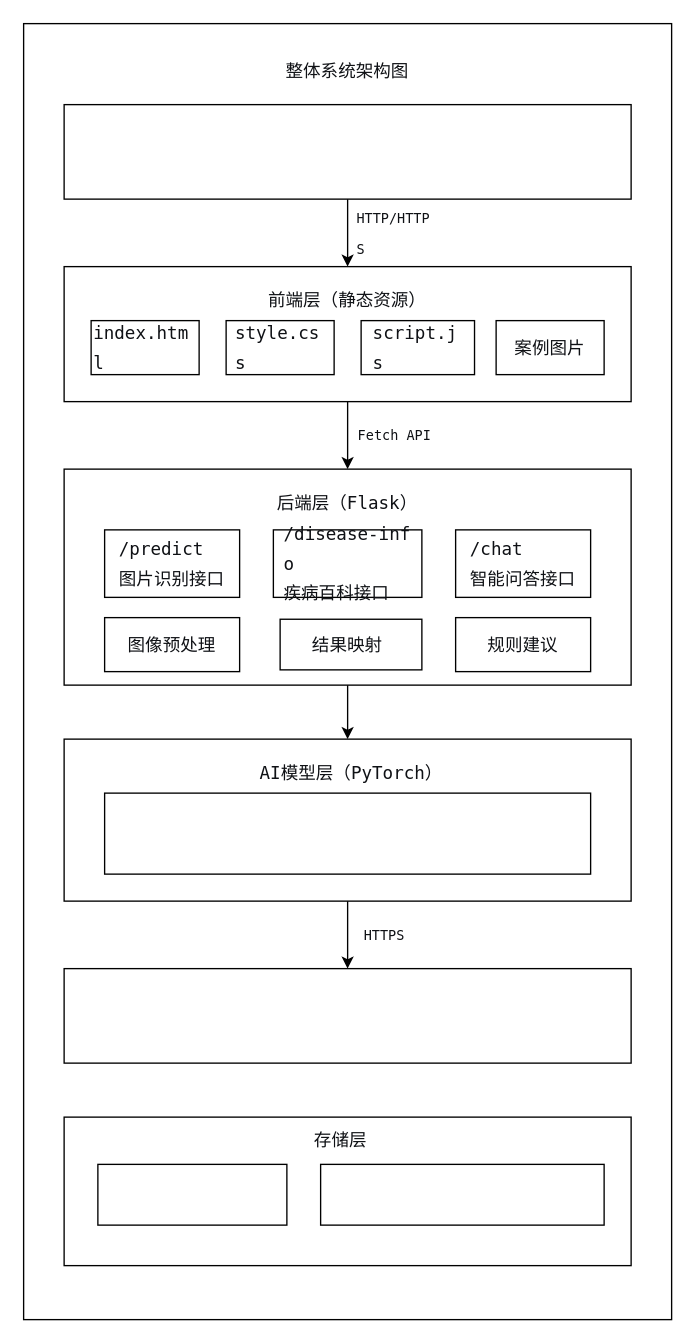
This 695x1343 diagram has some shape labels left out. Here are the shapes that lost their labels. From the top down, the centre of each, then its label:
the point at 347,151: 用户层（浏览器) PC端 / 手机端 / 平板端（响应式适配）
the point at 347,833: ResNet50（迁移学习 · 7分类） 权重文件：model/best_model.pth
the point at 347,1015: 外部服务（DeepSeek API） 大语言模型 · 个性化建议生成 · 多轮对话
the point at 192,1194: 模型权重（本地文件）
the point at 461,1194: 历史记录（浏览器localStorage）
